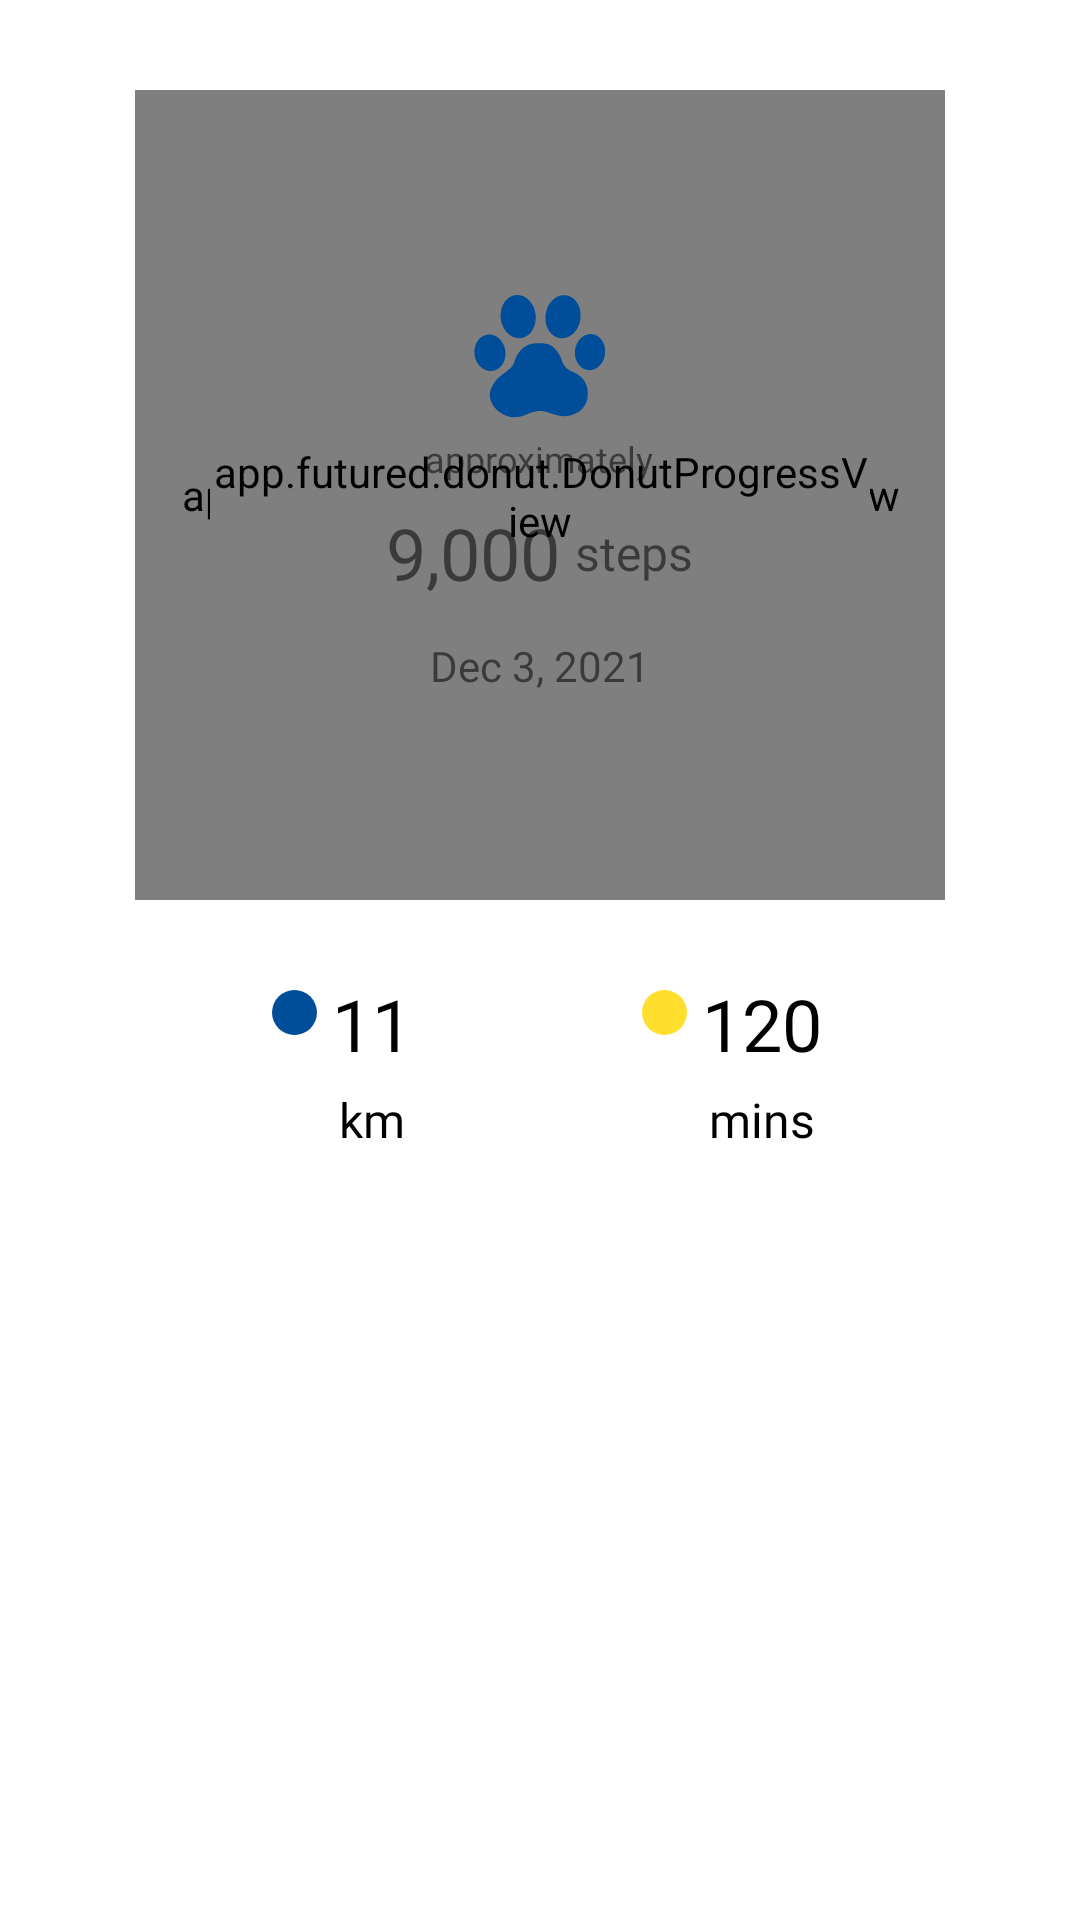

Icons on this 1080w x 1920h Android screen, each with the point to tap as (x,y):
paw: (540,356)
